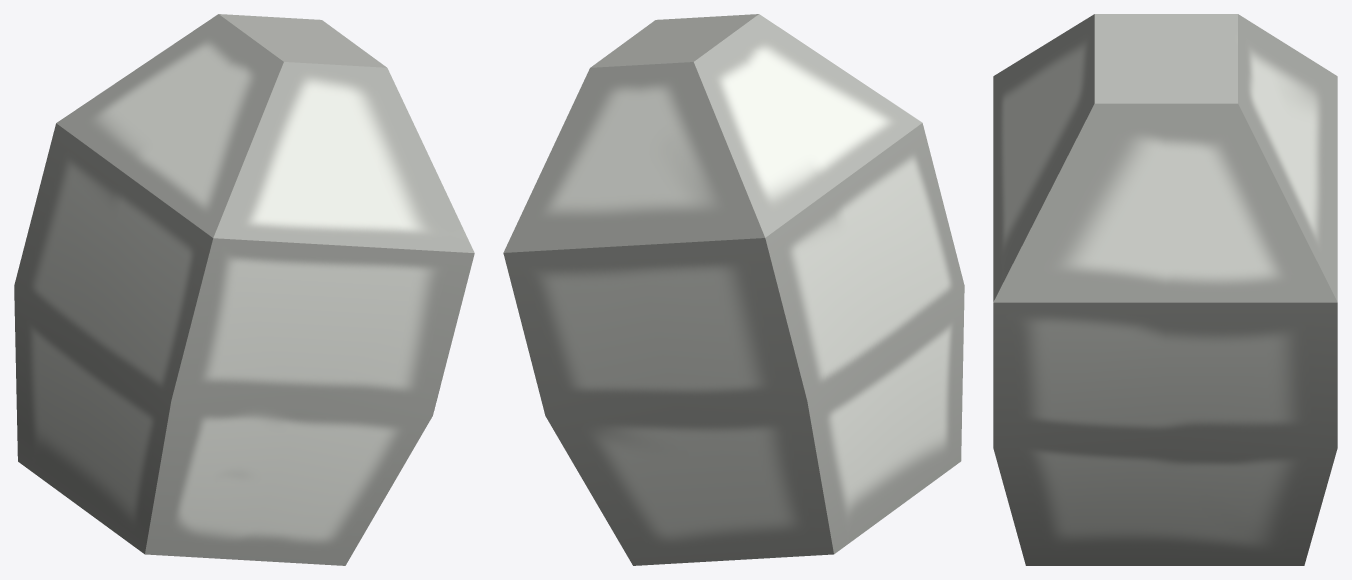
File: Hand L.001.fbx
3 views of the same model, side by side, from view 1: azimuth 30°, elevation 25°; view 2: azimuth 150°, elevation 25°; view 3: azimuth 270°, elevation 25° (orthographic). The views are drawn at different scales.
Visible parts, largest first — view 1: Hand L.001_Baked; view 2: Hand L.001_Baked; view 3: Hand L.001_Baked.
Boxes of the visible parts, x1,y1,x2,y2 form: Hand L.001_Baked: (14,14,474,565); Hand L.001_Baked: (503,14,964,565); Hand L.001_Baked: (993,14,1337,565).
Size of the model in its own units: 75.03 by 111 by 64.83.
1 material, 1 textured.
